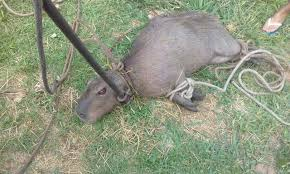capivara: (77, 8, 246, 124)
